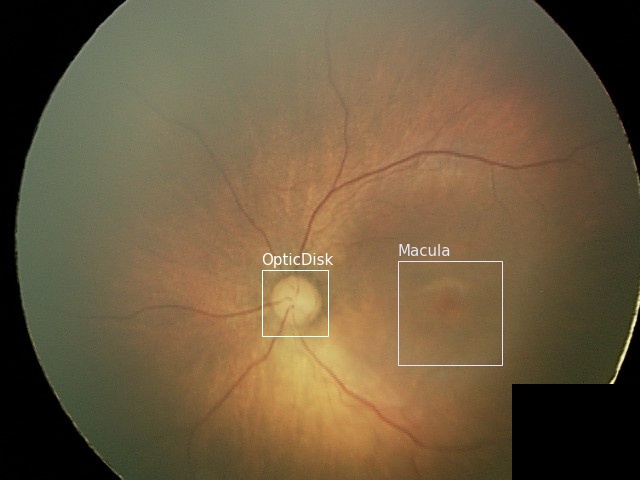Macula: (397, 260, 501, 364)
OpticDisk: (261, 269, 327, 335)
